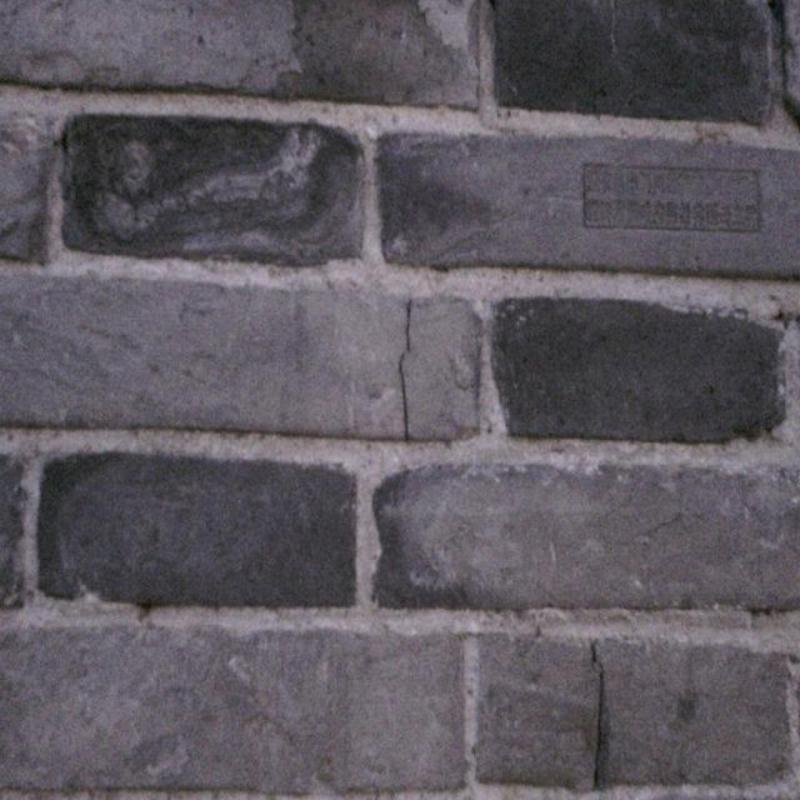crack: (399, 301, 411, 439), (593, 646, 604, 787)
